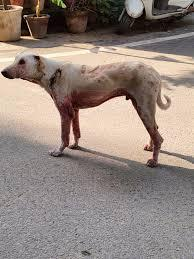infection: (36, 63, 98, 107)
